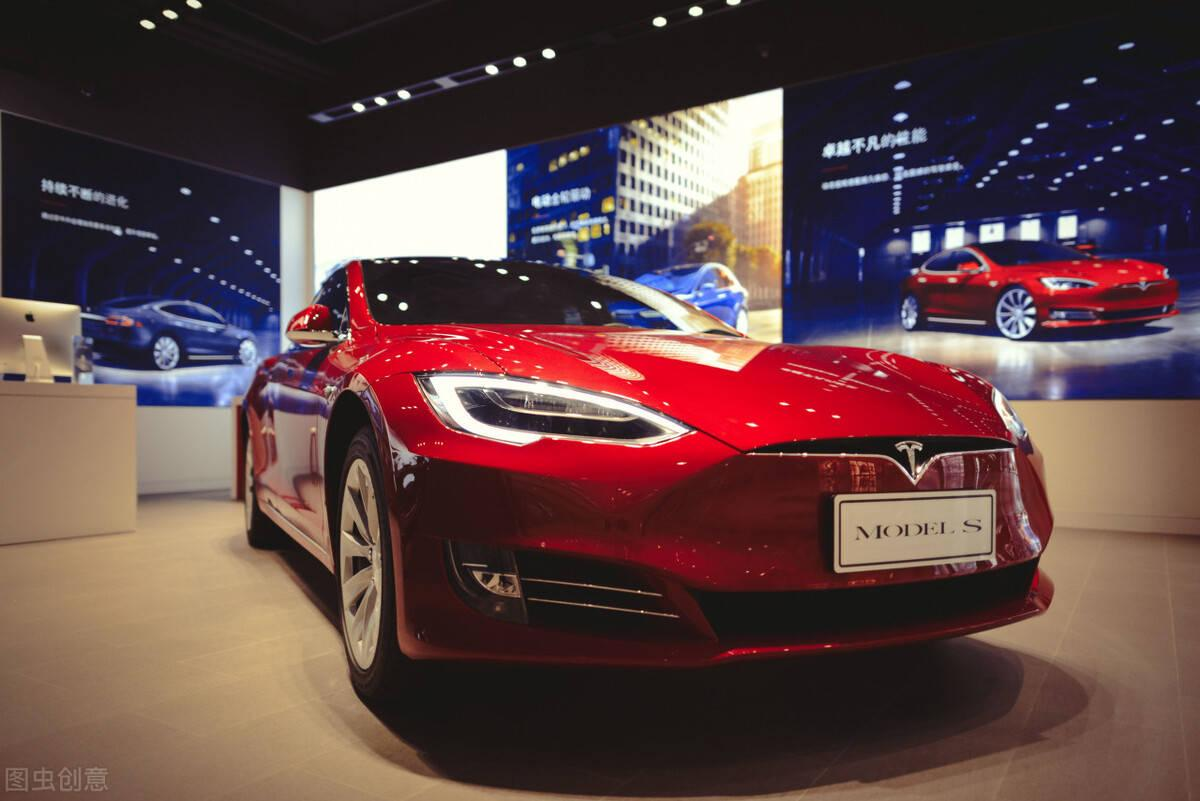Tesla: (895, 440, 924, 478)
